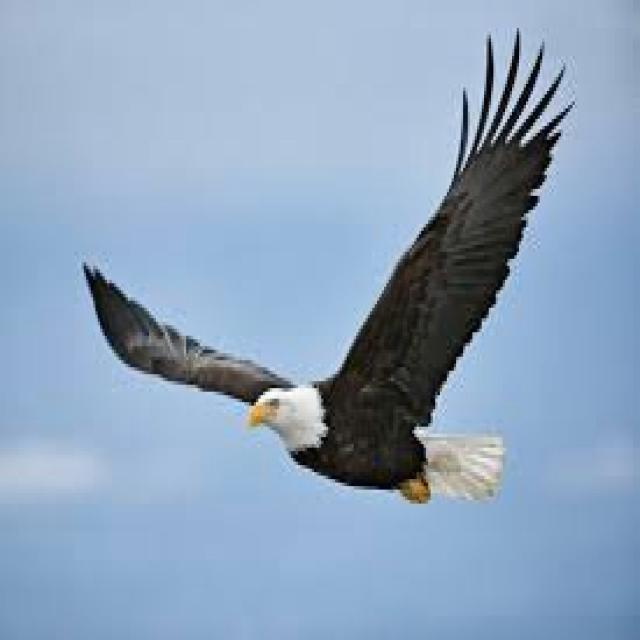eagle: (84, 31, 570, 500)
